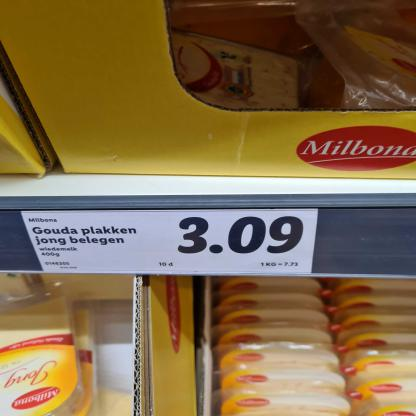prtg: (22, 209, 320, 275)
